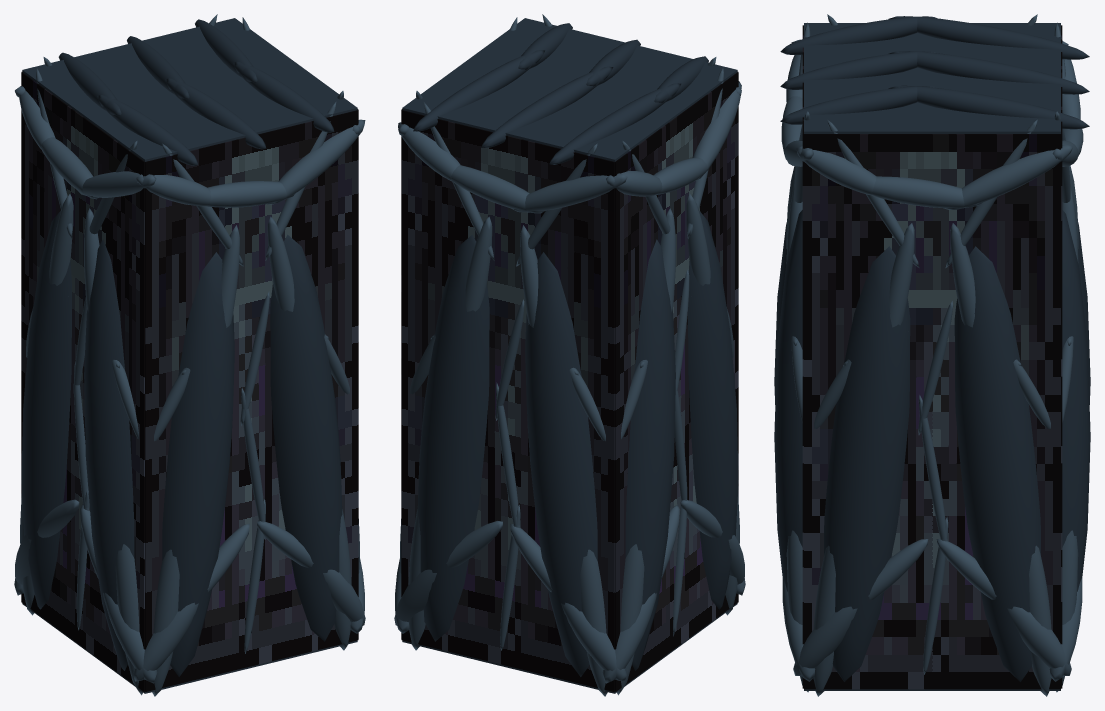
The model's file is CMU3DHiveWallXenoResin.glb.
3 views of the same model, side by side, from view 1: azimuth 30°, elevation 25°; view 2: azimuth 150°, elevation 25°; view 3: azimuth 270°, elevation 25° (orthographic). The views are drawn at different scales.
Parts seen in each view (by area): view 1: broad exoskeletal fold (×4), source resin skin front and rear, source resin skin sides, continuous resin backing, arching load-bearing tendon (×11), sealed roof fold (×6), crown collar (×6), lower root buttress (×7), central interlocking seam (×6), branching surface crease (×3); view 2: broad exoskeletal fold (×4), source resin skin front and rear, source resin skin sides, continuous resin backing, arching load-bearing tendon (×11), sealed roof fold (×6), crown collar (×6), lower root buttress (×7), central interlocking seam (×6), branching surface crease (×3); view 3: source resin skin sides, broad exoskeletal fold (×6), continuous resin backing, sealed roof fold (×6), arching load-bearing tendon (×8), crown collar (×6), lower root buttress (×6), central interlocking seam (×3), branching surface crease (×4), source resin skin front and rear (×2).
Part boxes in pixels (x1,y1,x2,y2): broad exoskeletal fold (×4): (21, 210, 342, 676); source resin skin front and rear: (145, 110, 358, 691); source resin skin sides: (21, 72, 144, 691); continuous resin backing: (22, 18, 357, 693); arching load-bearing tendon (×11): (36, 67, 351, 696); sealed roof fold (×6): (58, 19, 334, 165); crown collar (×6): (19, 90, 365, 207); lower root buttress (×7): (15, 499, 365, 683); central interlocking seam (×6): (73, 291, 269, 653); branching surface crease (×3): (112, 334, 349, 441); broad exoskeletal fold (×4): (417, 210, 738, 676); source resin skin front and rear: (401, 110, 614, 691); source resin skin sides: (615, 72, 738, 691); continuous resin backing: (402, 18, 737, 693); arching load-bearing tendon (×11): (408, 67, 723, 696); sealed roof fold (×6): (413, 23, 708, 164); crown collar (×6): (398, 81, 741, 213); lower root buttress (×7): (394, 500, 744, 683); central interlocking seam (×6): (495, 269, 689, 650); branching surface crease (×3): (410, 334, 647, 441); source resin skin sides: (804, 134, 1060, 689); broad exoskeletal fold (×6): (774, 210, 1090, 681); continuous resin backing: (804, 23, 1060, 690); sealed roof fold (×6): (780, 16, 1089, 129); arching load-bearing tendon (×8): (786, 119, 1078, 696); crown collar (×6): (781, 40, 1080, 209); lower root buttress (×6): (782, 539, 1082, 681); central interlocking seam (×3): (918, 301, 953, 674); branching surface crease (×4): (791, 336, 1073, 428); source resin skin front and rear (×2): (802, 25, 1062, 688).
Bounding box in the file's own units: 1.23 × 2.5 × 1.23.
Materials: 3 (1 with a texture image).
